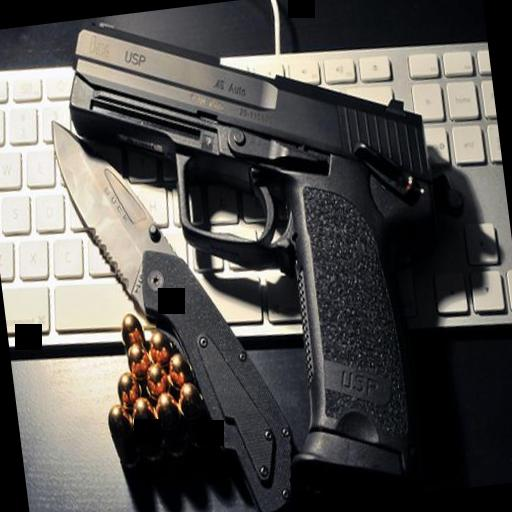Handgun: (53, 0, 466, 511)
